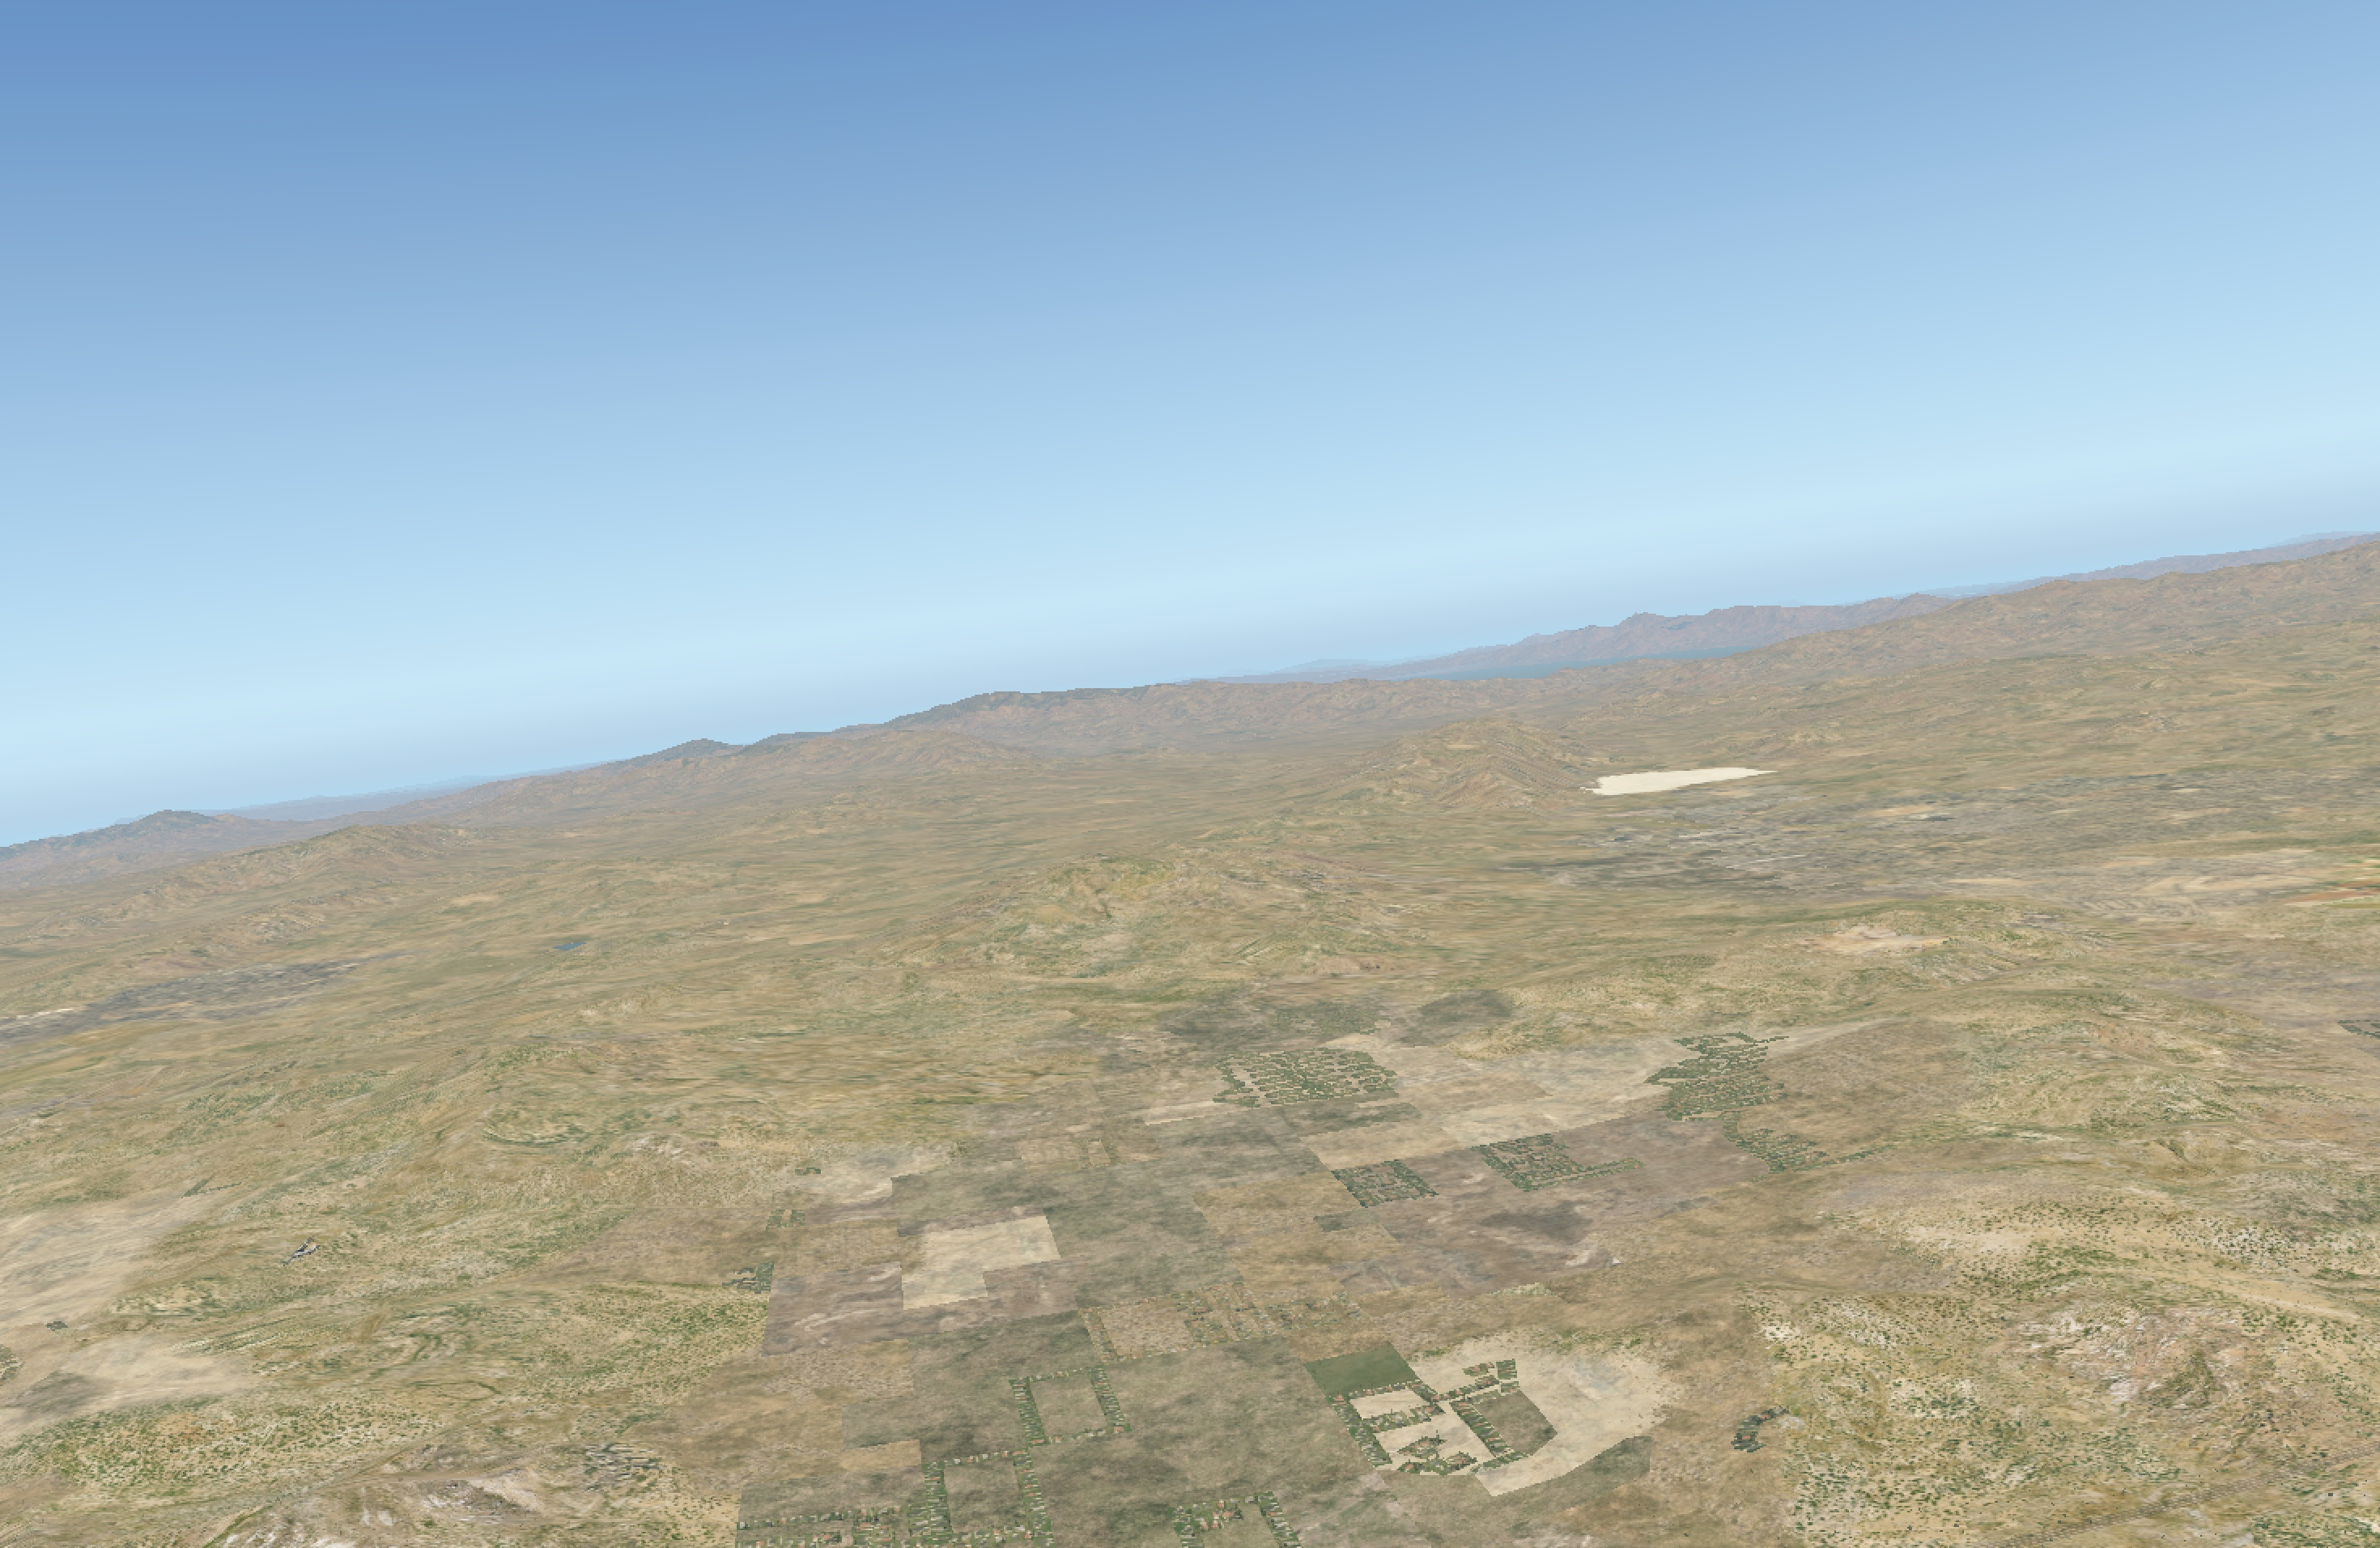aircraft: (284, 1248, 316, 1260)
